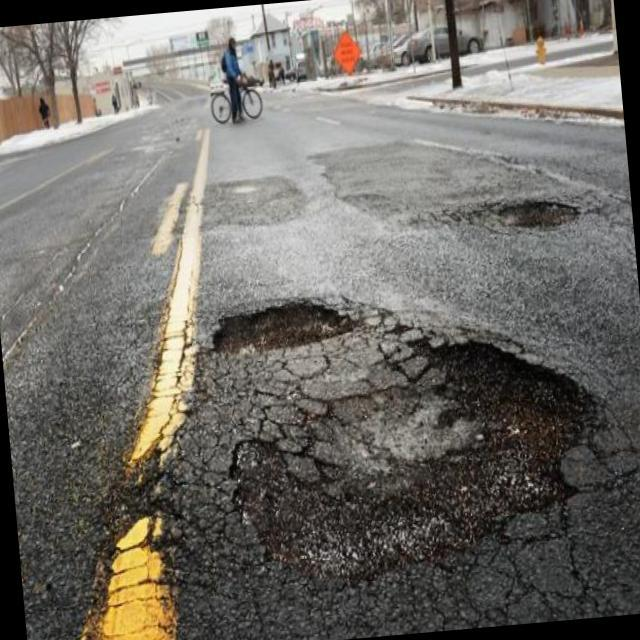Pothole: (226, 436, 444, 612), (433, 316, 604, 477), (202, 276, 352, 352), (490, 182, 582, 240)
